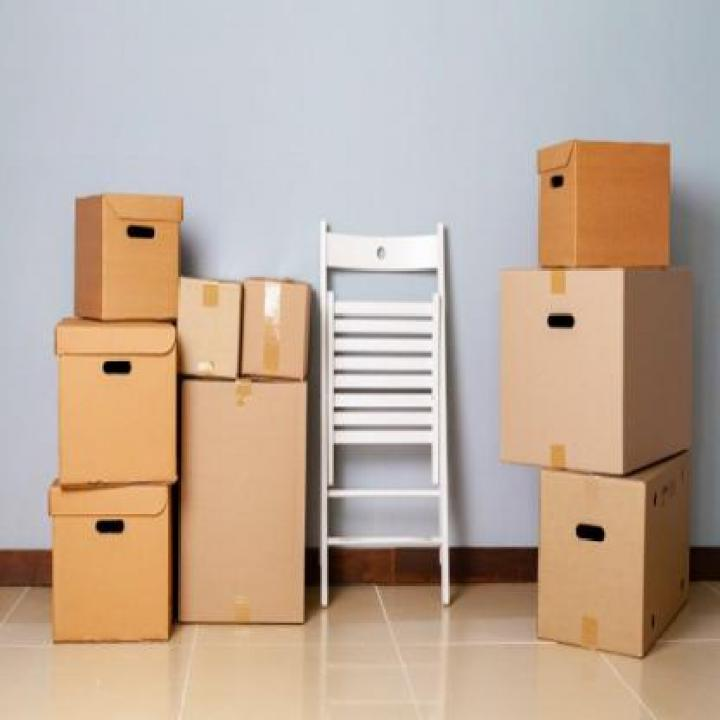box: (490, 268, 696, 469), (183, 387, 319, 664), (519, 477, 703, 671), (36, 312, 192, 478), (36, 476, 175, 652), (529, 126, 679, 270), (60, 159, 179, 336), (244, 271, 312, 378), (178, 269, 239, 378)
